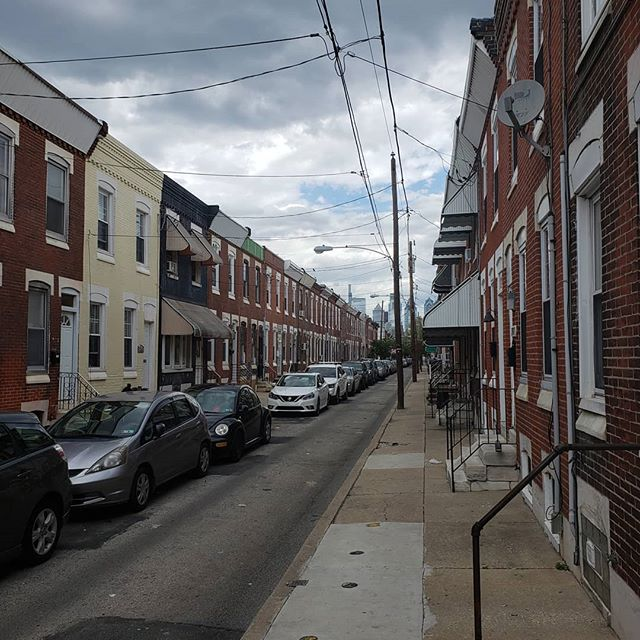building: (465, 1, 640, 637), (1, 65, 95, 414), (81, 141, 170, 418), (204, 205, 269, 384), (159, 168, 210, 393), (268, 259, 375, 365)
car: (72, 385, 202, 514), (180, 377, 276, 458), (270, 370, 332, 415)
sidewalk: (276, 377, 572, 640)
sky: (96, 1, 461, 272)
street: (35, 367, 400, 640)
